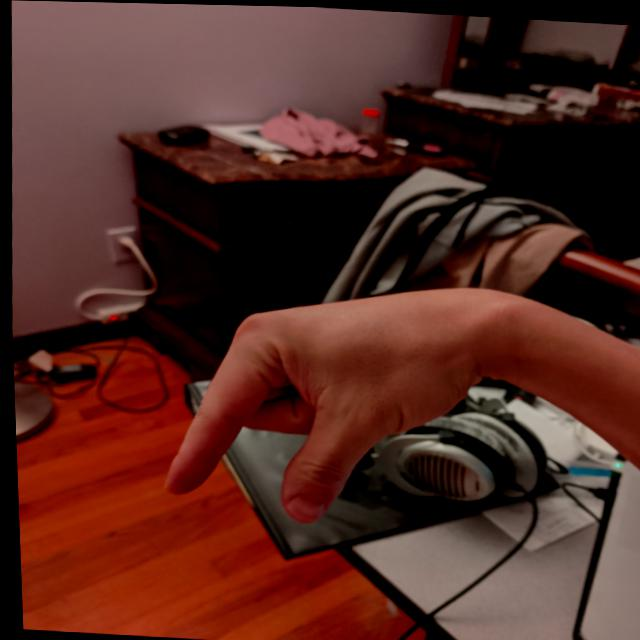Q: (146, 264, 493, 536)
